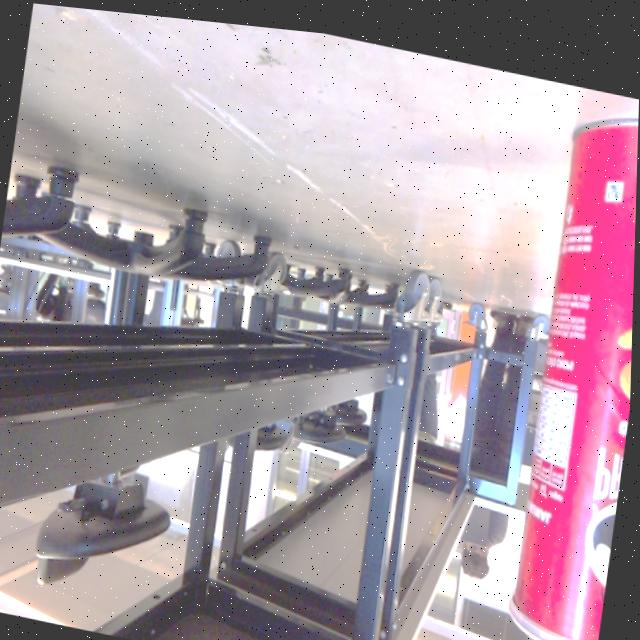redpringles: (496, 72, 639, 640)
